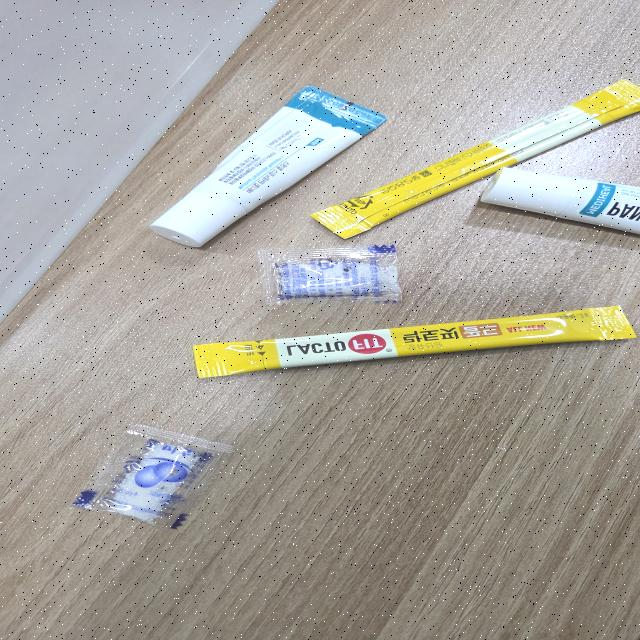lacto: (305, 76, 639, 240), (192, 303, 640, 381)
lib: (139, 85, 389, 248), (480, 166, 640, 235)
salt: (67, 424, 238, 531), (254, 242, 409, 307)
